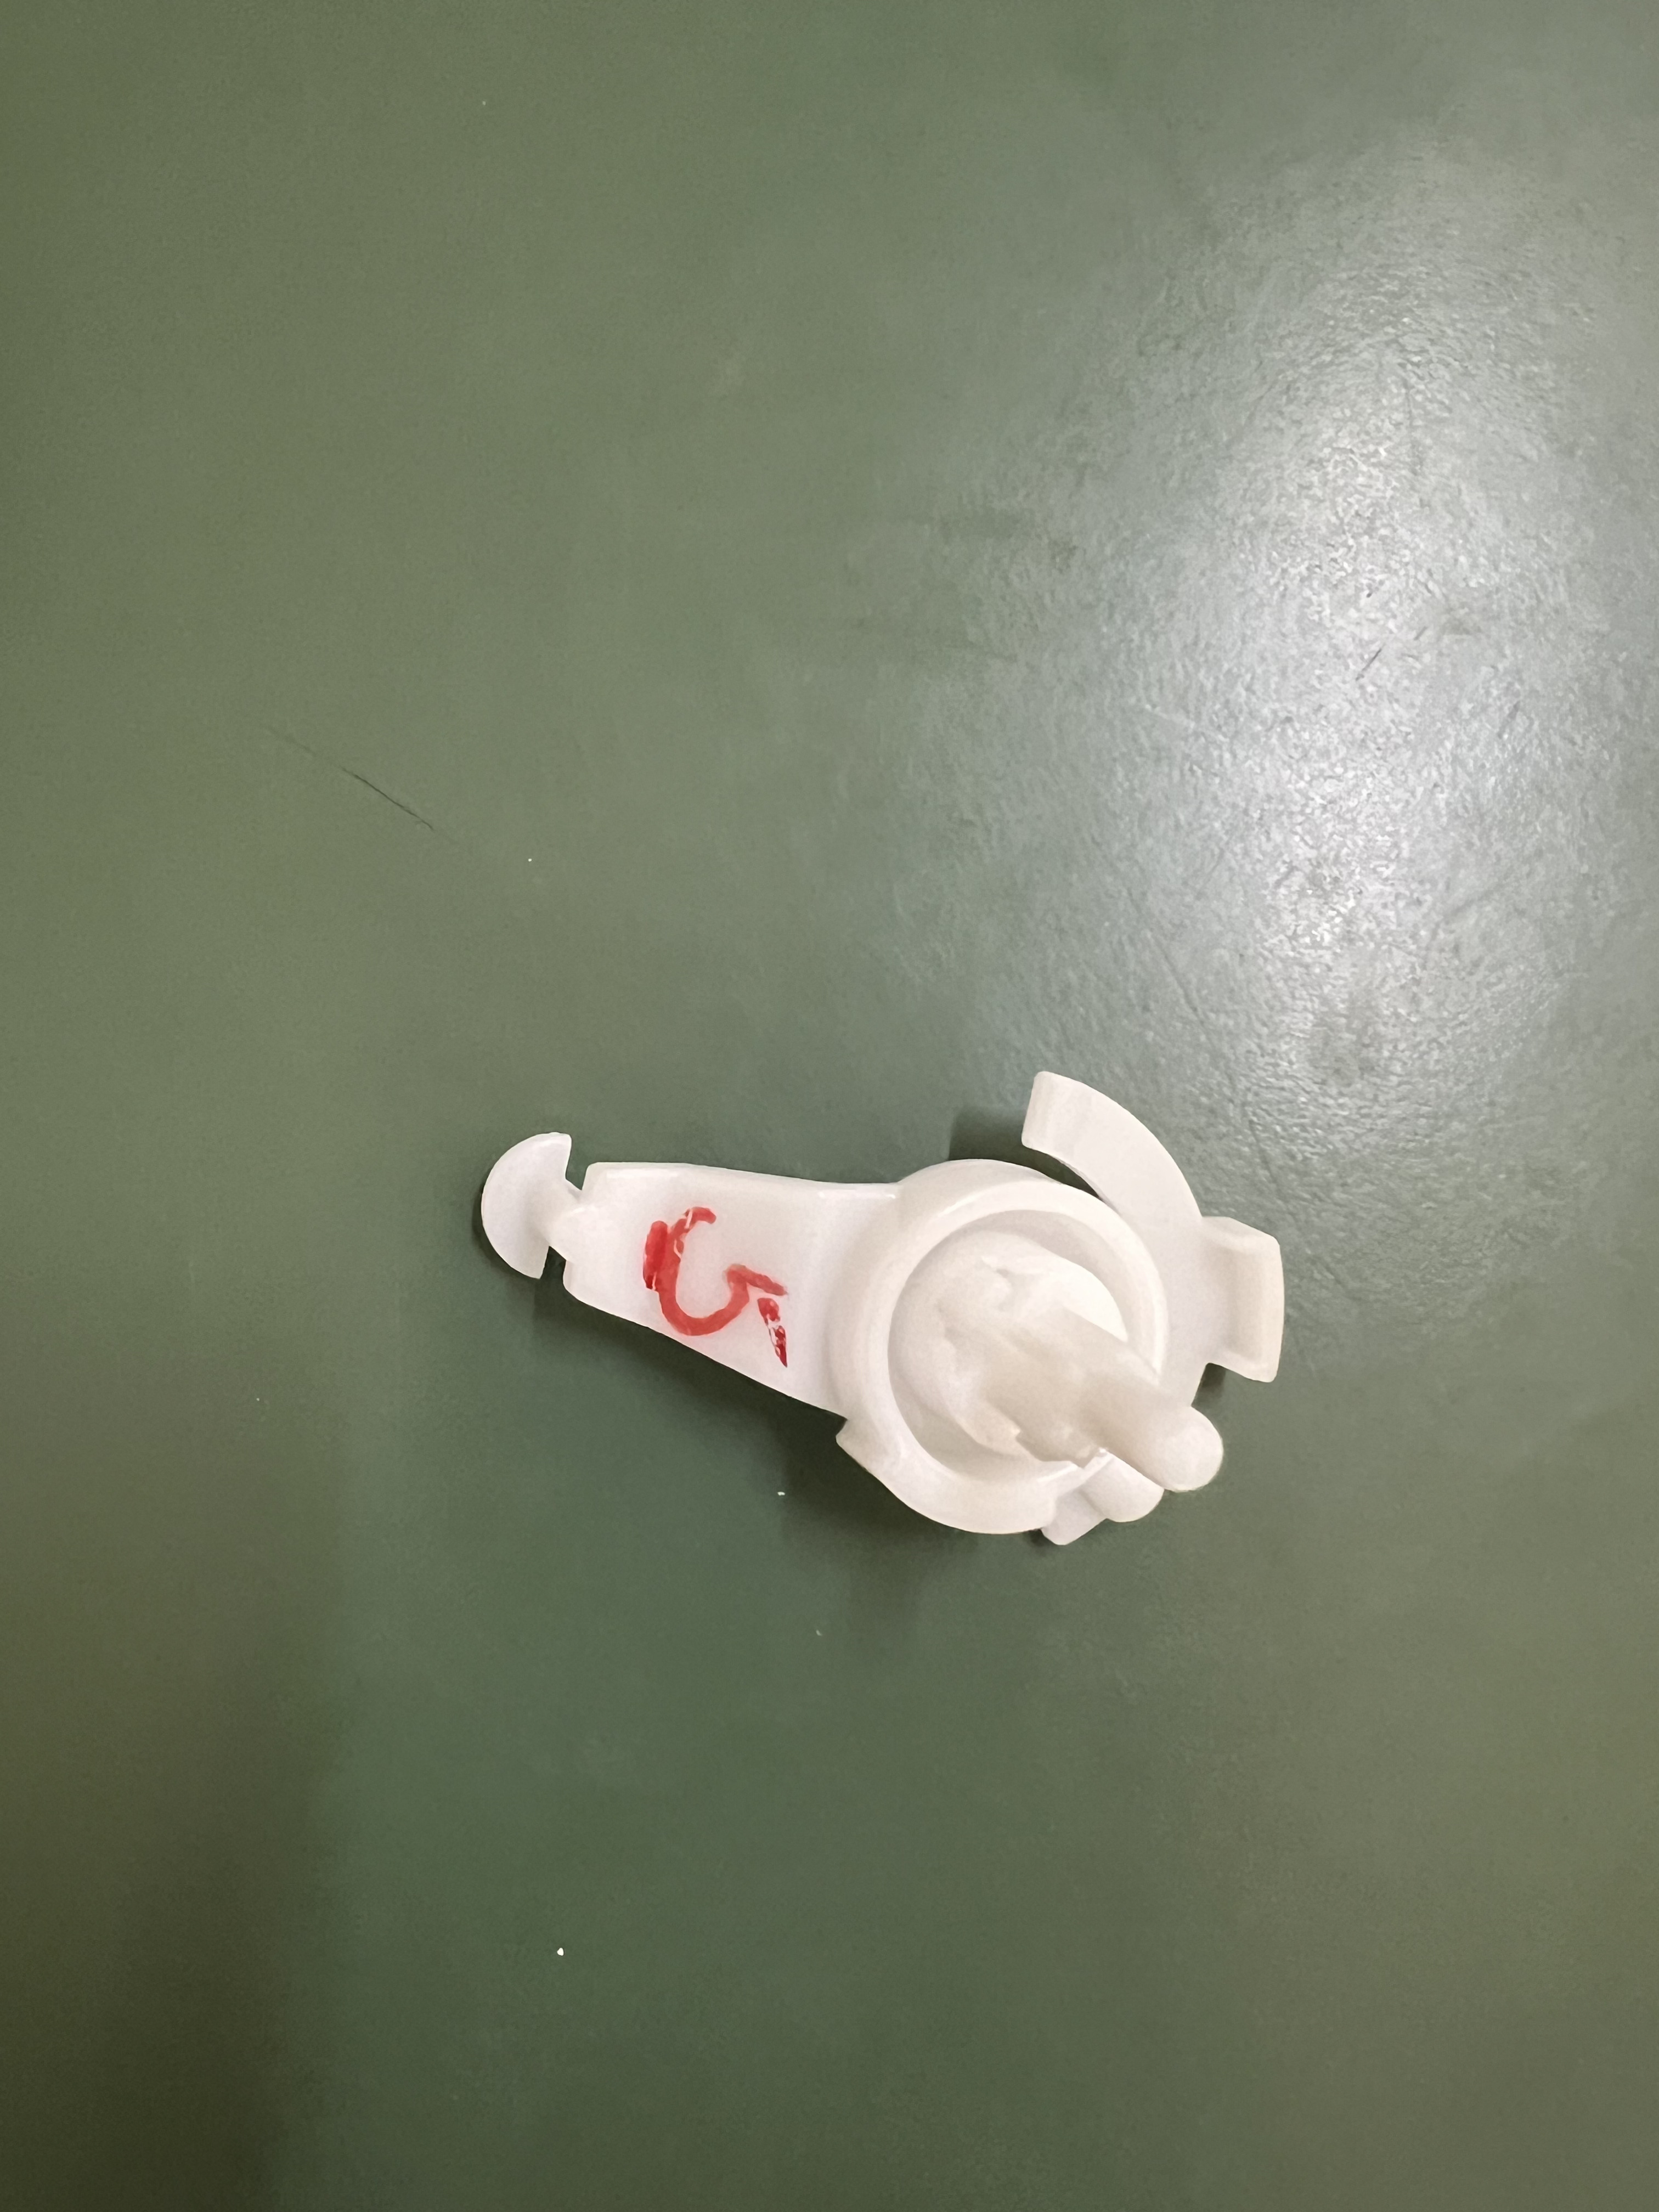drain_lever: (432, 1050, 1304, 1588)
